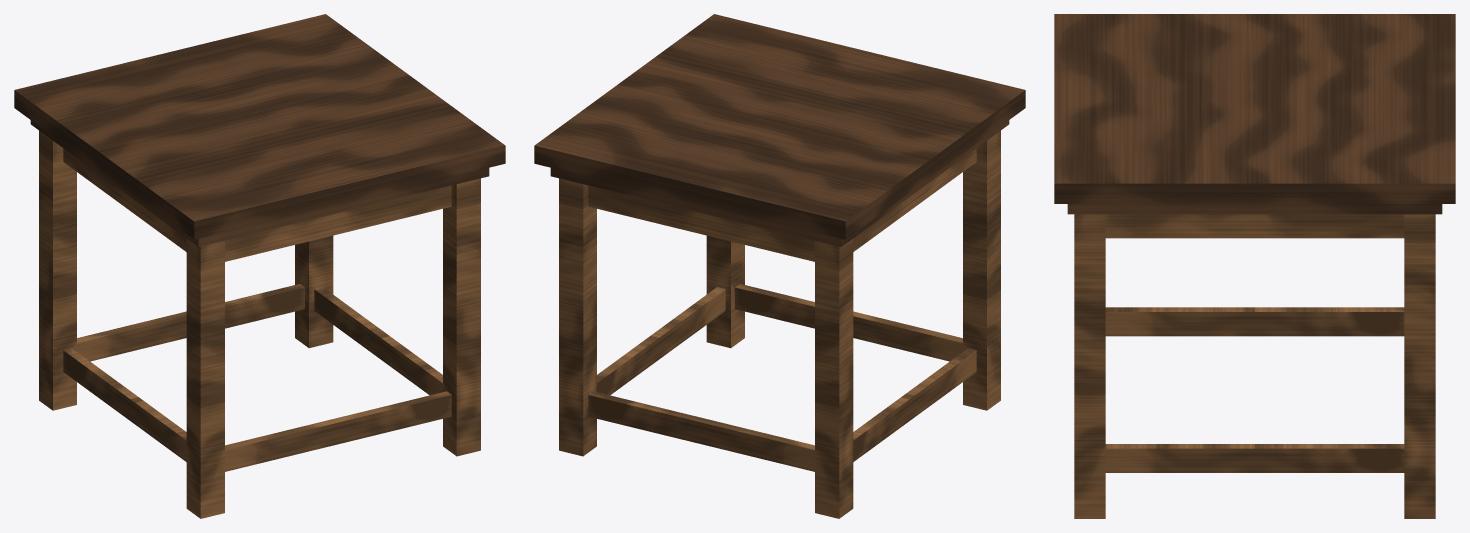
File: dining_table.fbx
3 views of the same model, side by side, from view 1: azimuth 30°, elevation 25°; view 2: azimuth 150°, elevation 25°; view 3: azimuth 270°, elevation 25° (orthographic). The views are drawn at different scales.
Visible parts, largest first — view 1: dining_table; view 2: dining_table; view 3: dining_table.
Part boxes in pixels (x1,y1,x2,y2): dining_table: [14, 14, 505, 518]; dining_table: [534, 14, 1025, 518]; dining_table: [1054, 14, 1455, 518].
Size of the model in its own units: 90 by 85 by 90.
